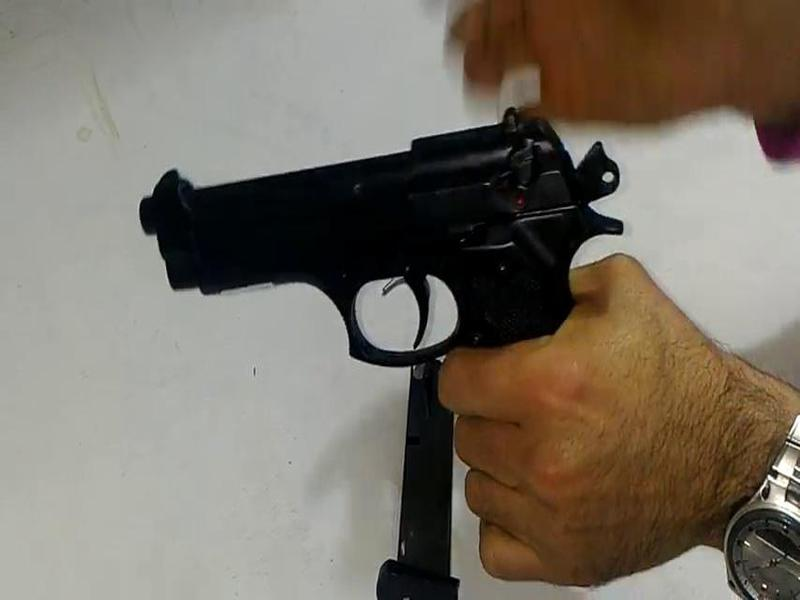Pistola: (118, 103, 629, 383)
